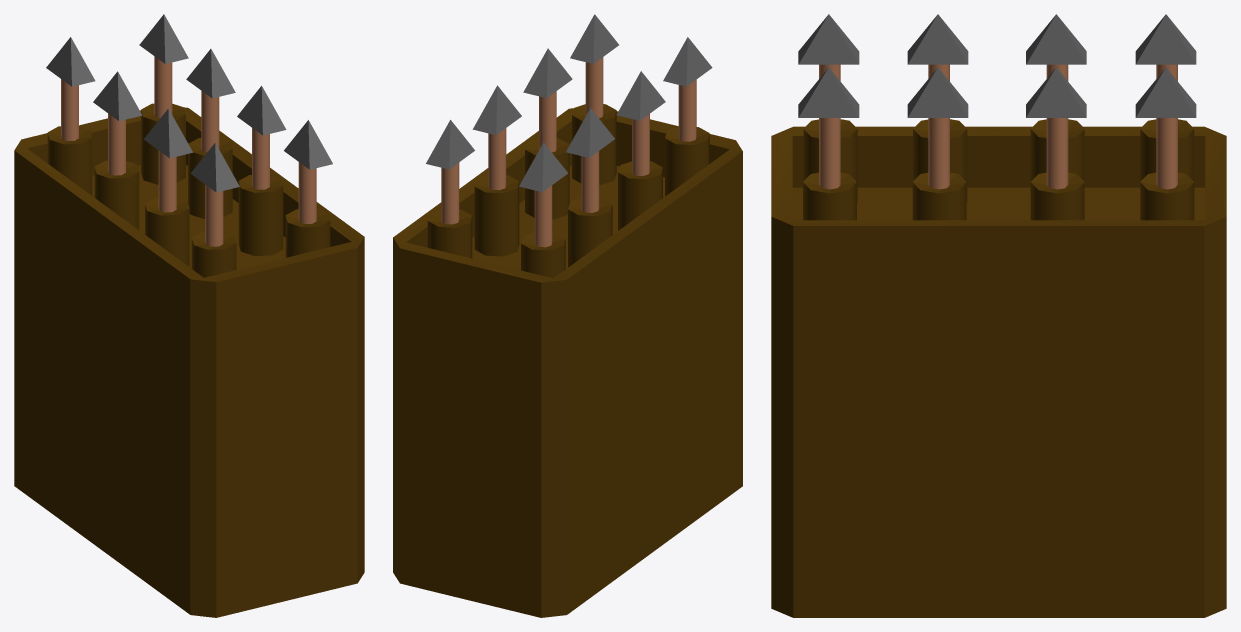
File: Arrow_mechanism.fbx
3 renders of one model, left to right at view 1: azimuth 30°, elevation 25°; view 2: azimuth 150°, elevation 25°; view 3: azimuth 270°, elevation 25°, orthographic. The views are drawn at different scales.
Parts seen in each view (by area): view 1: Arrow mechanism, Arrows; view 2: Arrow mechanism, Arrows; view 3: Arrow mechanism, Arrows.
Boxes of the visible parts, left/top/right/bottom form: Arrow mechanism: left=14, top=103, right=364, bottom=617; Arrows: left=46, top=14, right=332, bottom=246; Arrow mechanism: left=393, top=104, right=742, bottom=617; Arrows: left=426, top=14, right=712, bottom=247; Arrow mechanism: left=771, top=119, right=1226, bottom=617; Arrows: left=798, top=14, right=1196, bottom=189.
Size of the model in its own units: 40.59 by 101 by 78.73.
